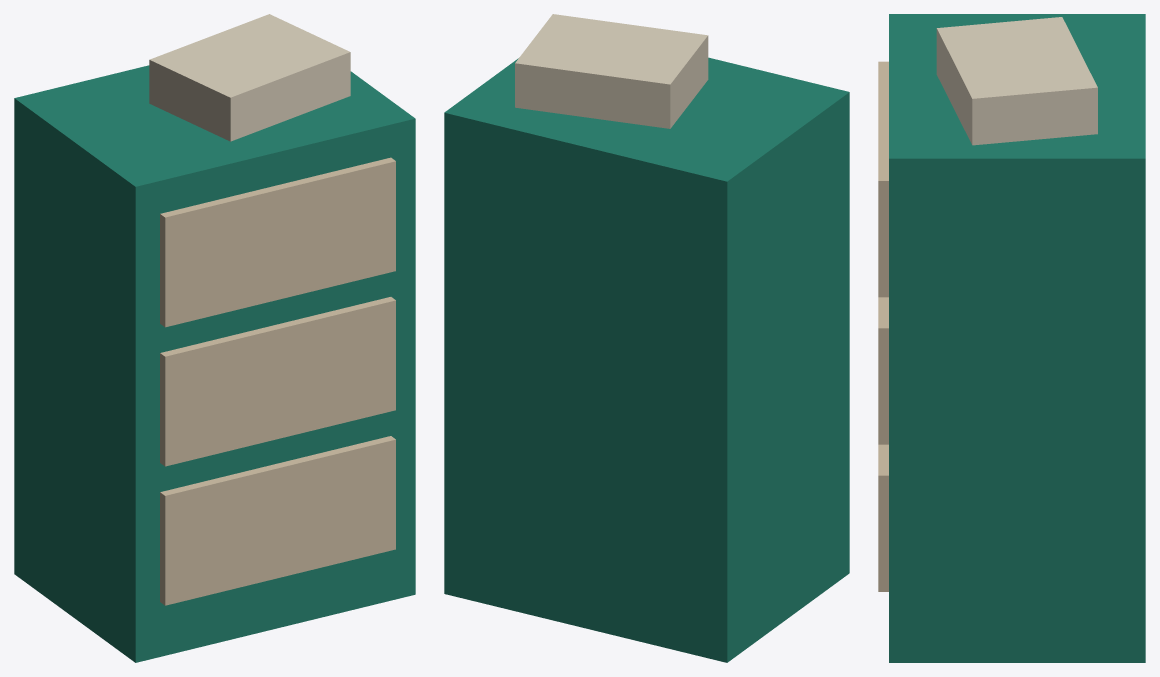
File: cabinet.gltf
3 renders of one model, left to right at view 1: azimuth 30°, elevation 25°; view 2: azimuth 150°, elevation 25°; view 3: azimuth 270°, elevation 25°, orthographic. The views are drawn at different scales.
Parts seen in each view (by area): view 1: body, drawer.3, drawer, drawer.2, files; view 2: body, files; view 3: body, files, drawer.3, drawer, drawer.2.
Boxes of the visible parts, box(x1,y1,x2,y2) form: body: box(14, 65, 415, 662); drawer.3: box(160, 157, 395, 327); drawer: box(160, 436, 395, 605); drawer.2: box(160, 297, 395, 466); files: box(149, 14, 350, 141); body: box(444, 57, 849, 662); files: box(515, 14, 708, 128); body: box(889, 14, 1145, 662); files: box(936, 17, 1097, 145); drawer.3: box(878, 61, 888, 297); drawer: box(878, 444, 888, 591); drawer.2: box(878, 297, 888, 444).
Bounding box in the file's own units: 0.8 × 1.42 × 0.625.
